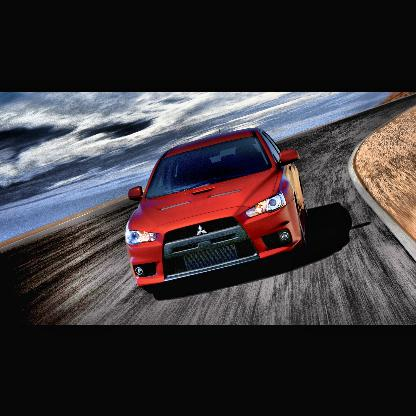Mitsubishi Lancer Sedan 2012: (127, 129, 310, 292)
